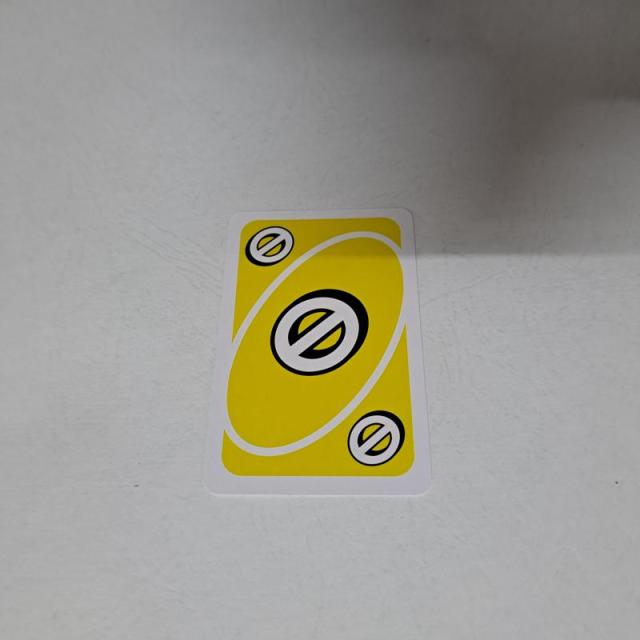Skip: (240, 218, 302, 274)
Yellow_Card: (216, 212, 420, 484)
